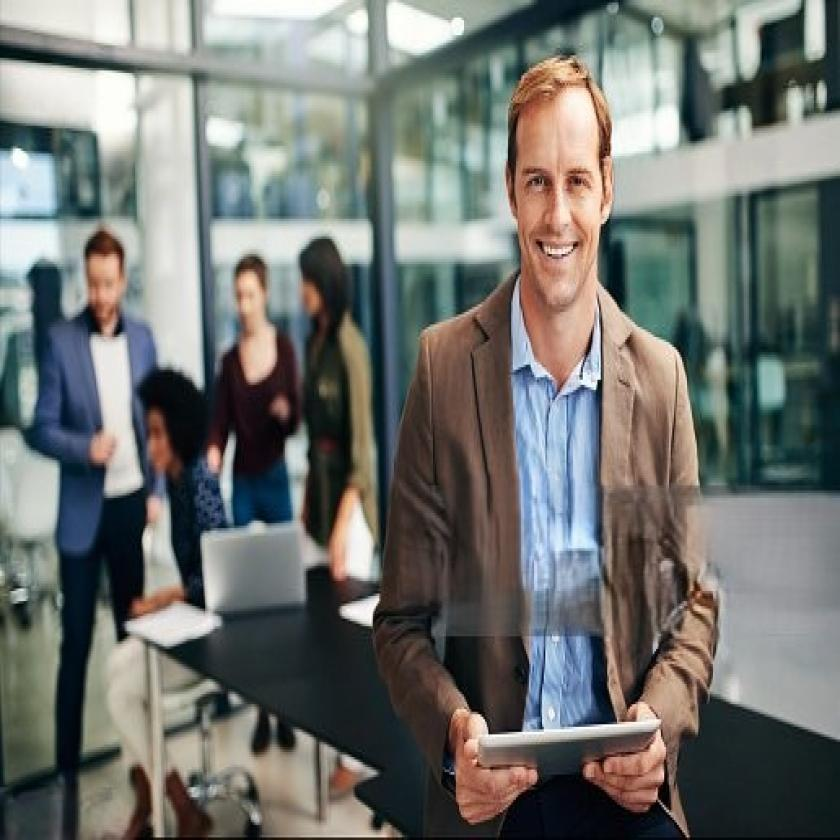Sin_casco: (500, 54, 621, 323)
